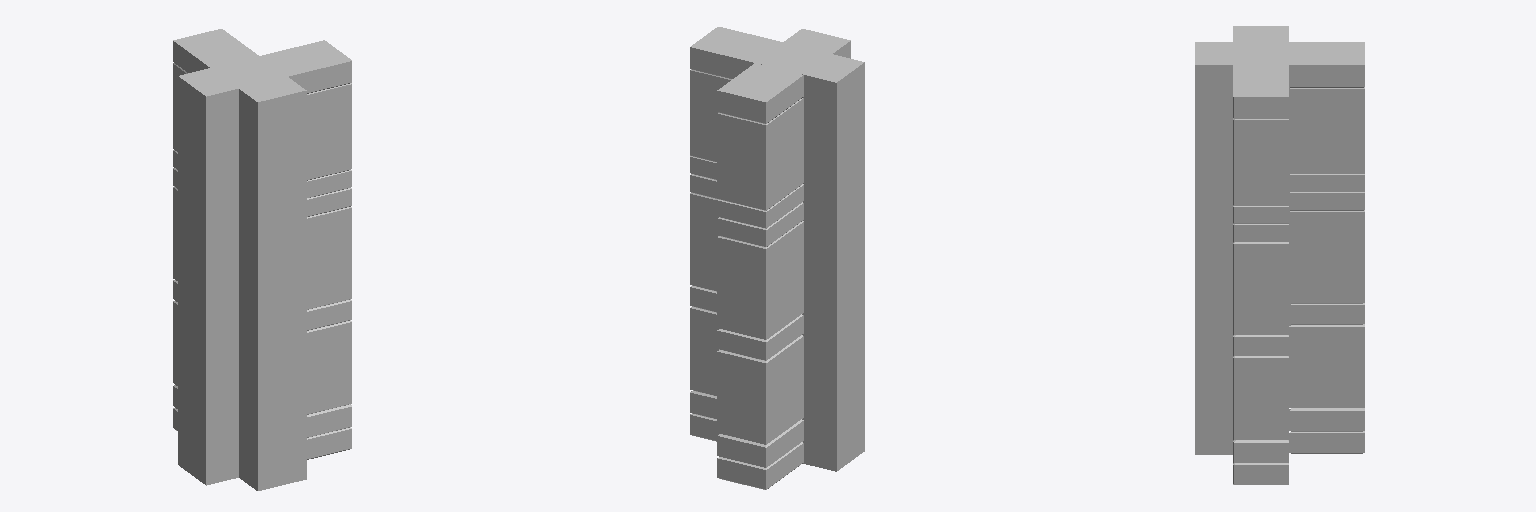
File: door_right.obj
3 views of the same model, side by side, from view 1: azimuth 30°, elevation 25°; view 2: azimuth 150°, elevation 25°; view 3: azimuth 270°, elevation 25° (orthographic).
Visible parts, largest first — view 1: Cube002_Cube003; view 2: Cube002_Cube003; view 3: Cube002_Cube003.
Boxes of the visible parts, x1,y1,x2,y2 form: Cube002_Cube003: [173, 29, 351, 490]; Cube002_Cube003: [690, 27, 864, 489]; Cube002_Cube003: [1195, 26, 1364, 484].
Size of the model in its own units: 0.9267 by 2.35 by 0.9267.